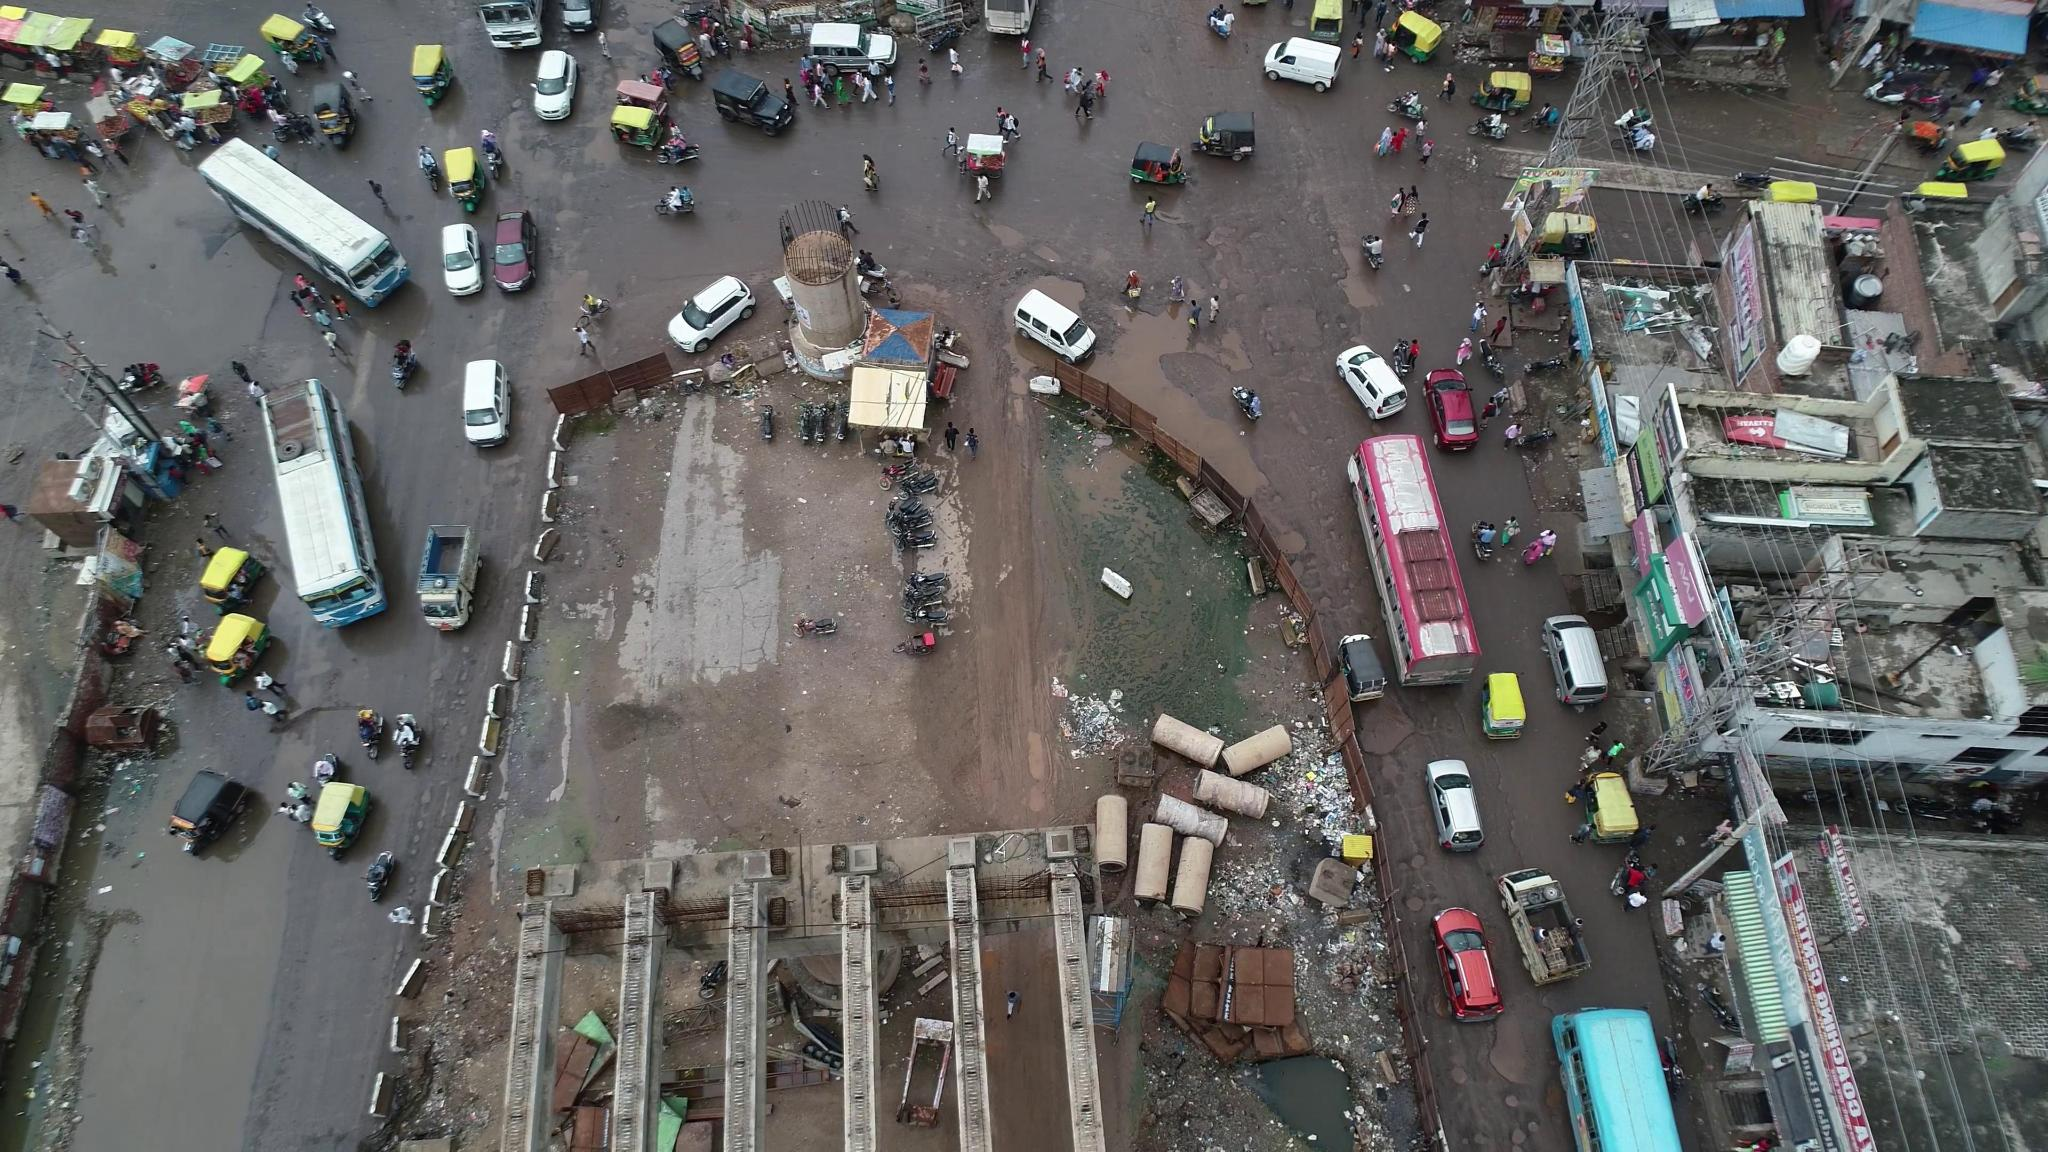Potholes: (421, 639, 497, 745), (1303, 422, 1353, 556), (398, 789, 437, 882), (1305, 211, 1349, 257)
